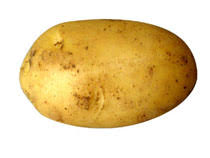potato: (22, 18, 197, 131)
